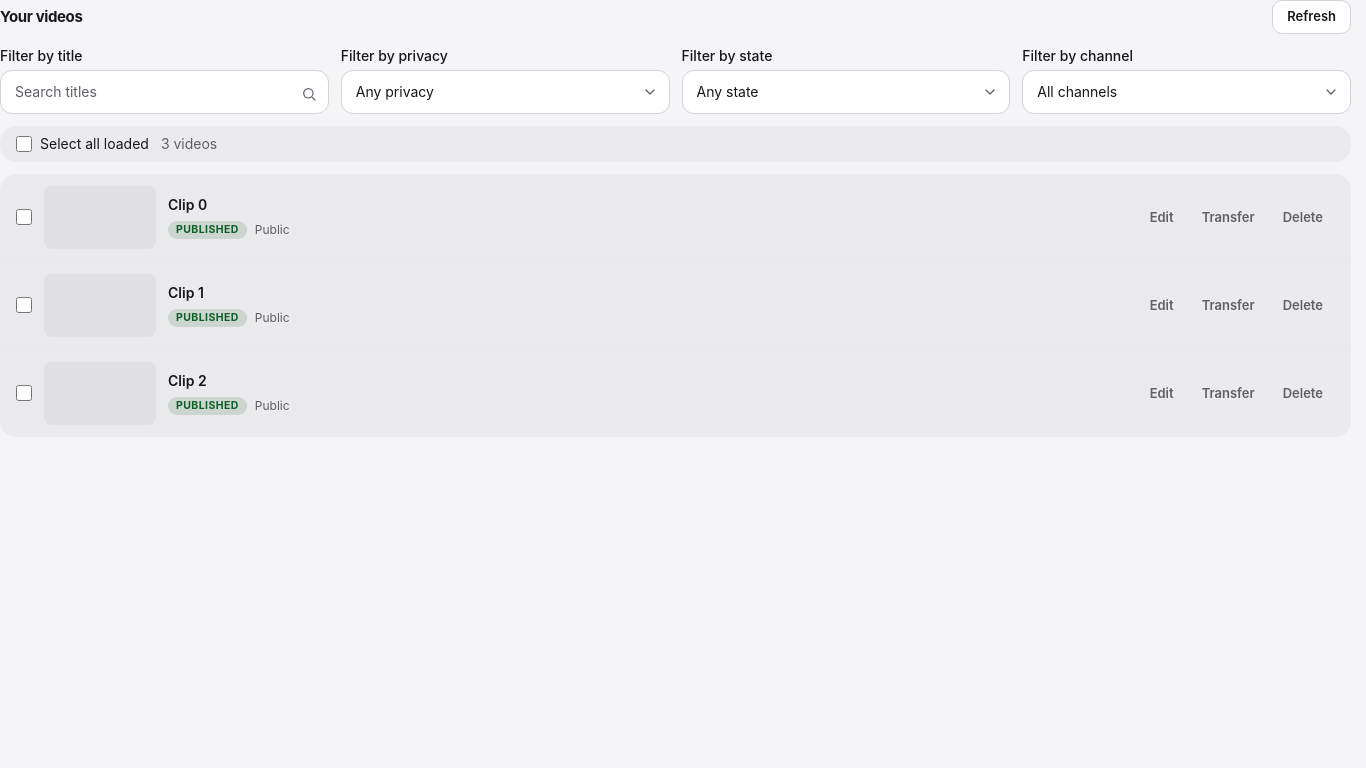
Test case: MyVideosManager bulk actions › lists per-item failures and keeps those videos selected
Expected: the link "Clip 0" is shown, [168,196,207,213]
Click the checkbox named "Include Clip 0 in bulk actions" at {"x": 24, "y": 217}, box [16,209,32,225]
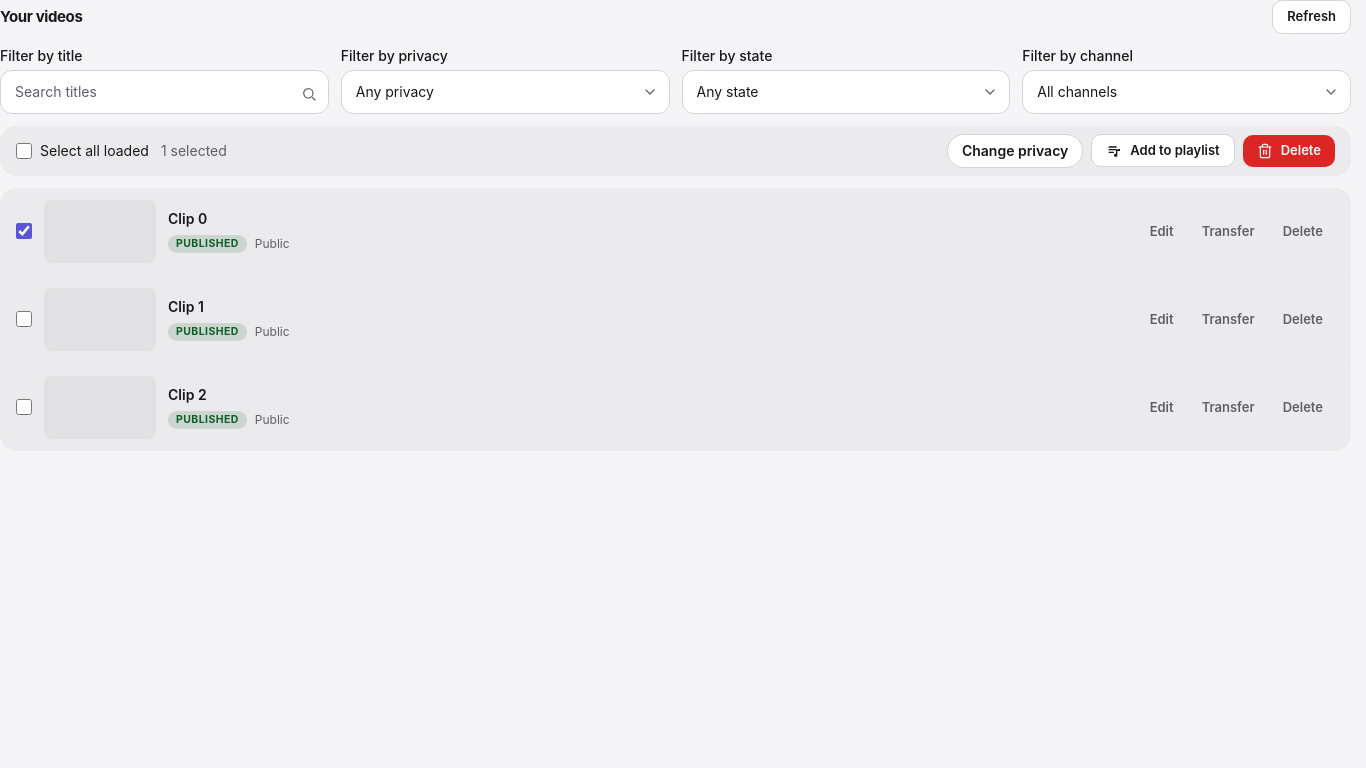
Click the checkbox named "Include Clip 1 in bulk actions" at {"x": 24, "y": 319}, box [16,311,32,327]
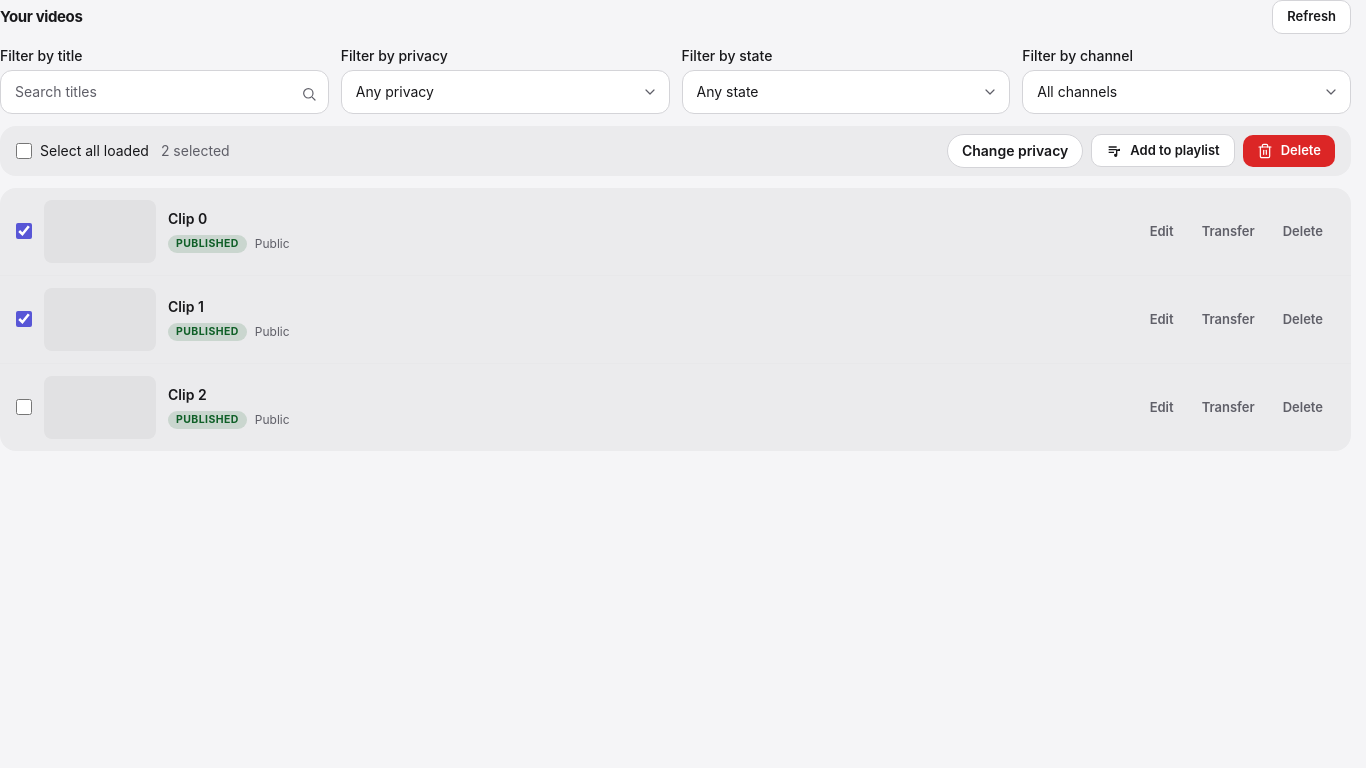
Click the button "Change privacy" at {"x": 1015, "y": 150}, box [947,134,1083,168]
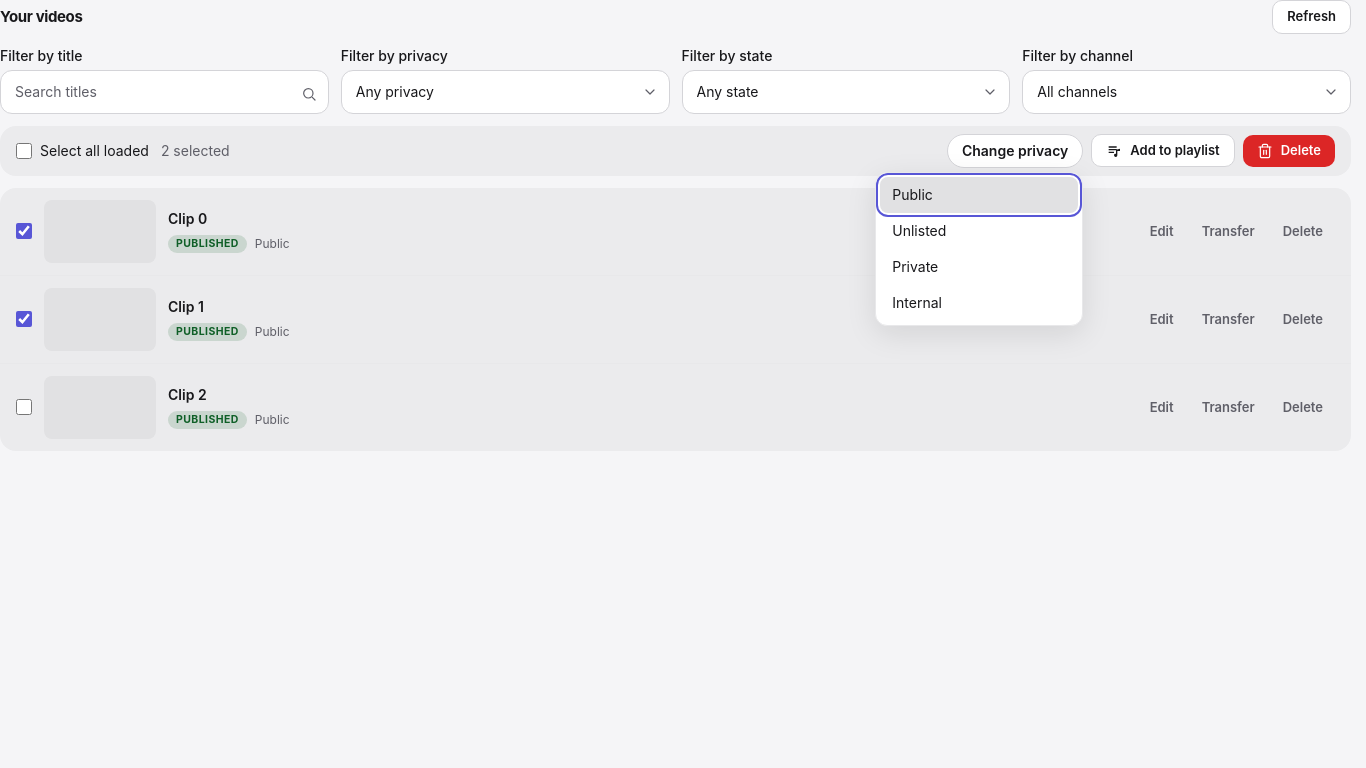
Click the menu item "Private" at {"x": 979, "y": 266}, box [880,248,1078,284]
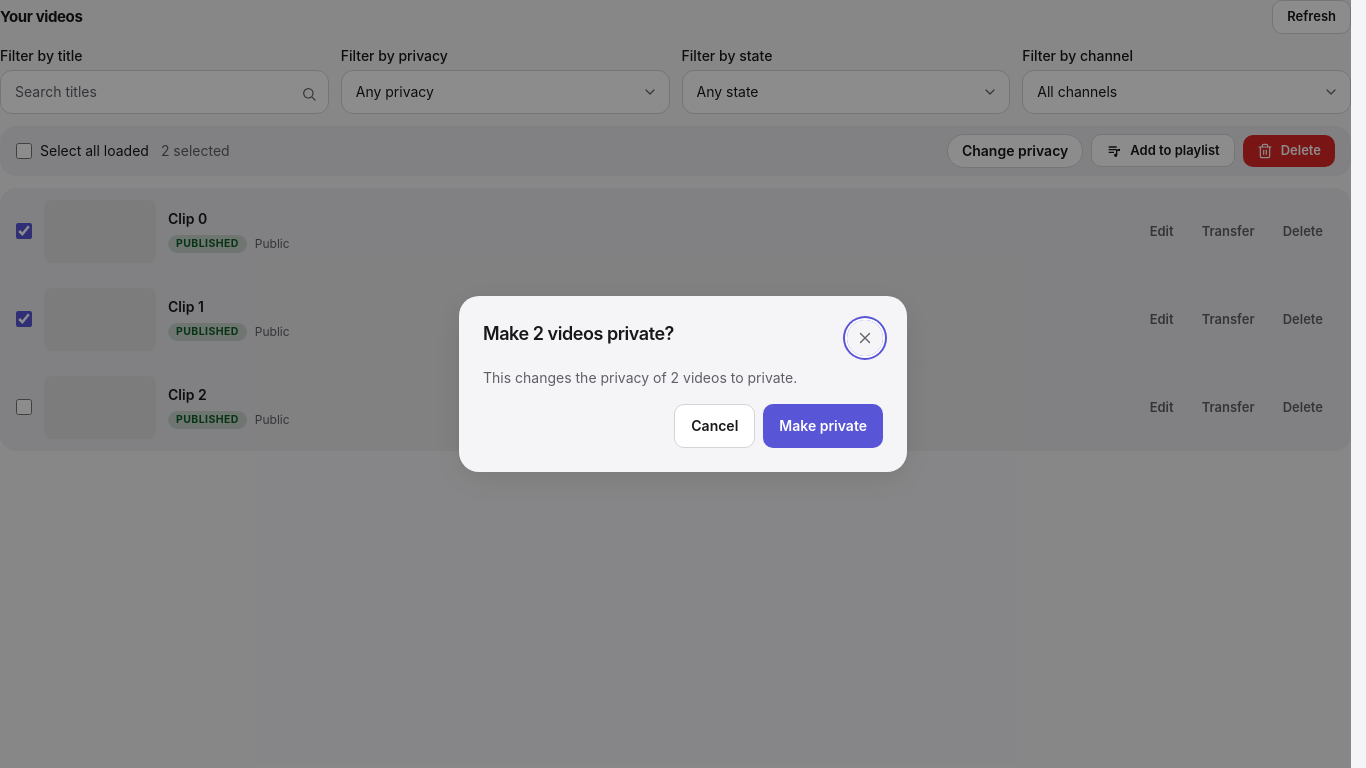
Click the button "Make private" at {"x": 823, "y": 426}, box [763,404,883,448]
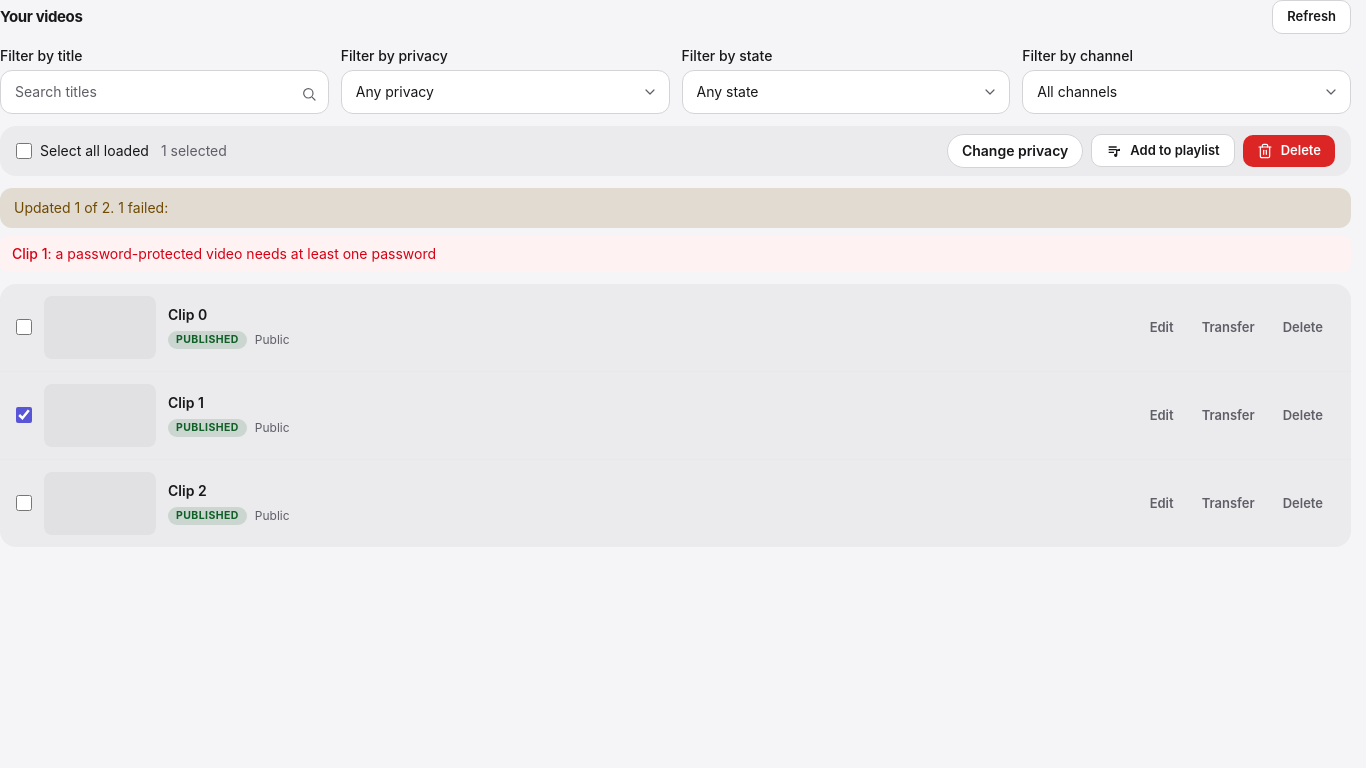
Result: the checkbox named "Include Clip 1 in bulk actions" is checked at [16,407,32,423]
Result: the text "Updated 1 of 2. 1 failed:" is shown at [0,188,1351,228]
Result: the list item "needs at least one password" is shown at [56,244,436,262]
